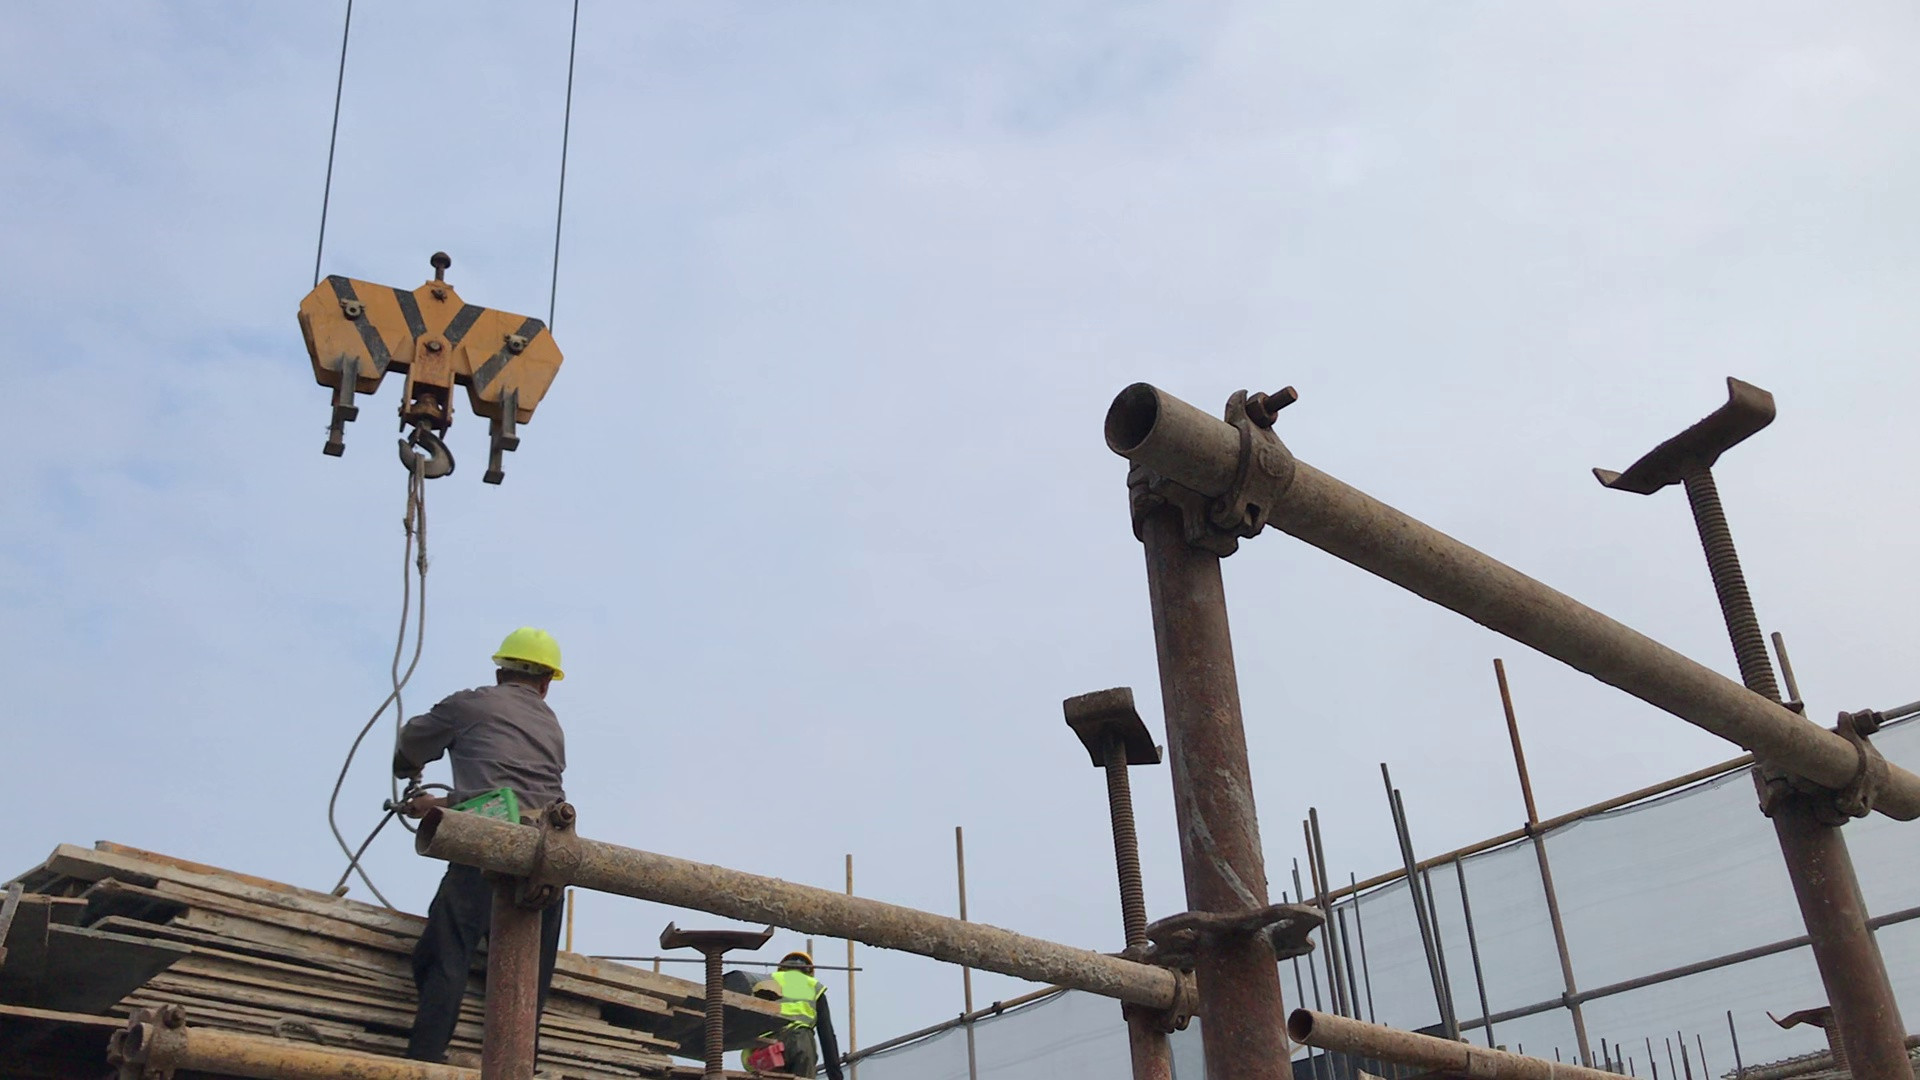board: (1, 838, 744, 1074)
helmet: (488, 620, 570, 682), (777, 951, 819, 969)
hook: (287, 253, 587, 486)
person: (367, 622, 632, 1063), (743, 953, 871, 1080)
vest: (764, 969, 828, 1031)
